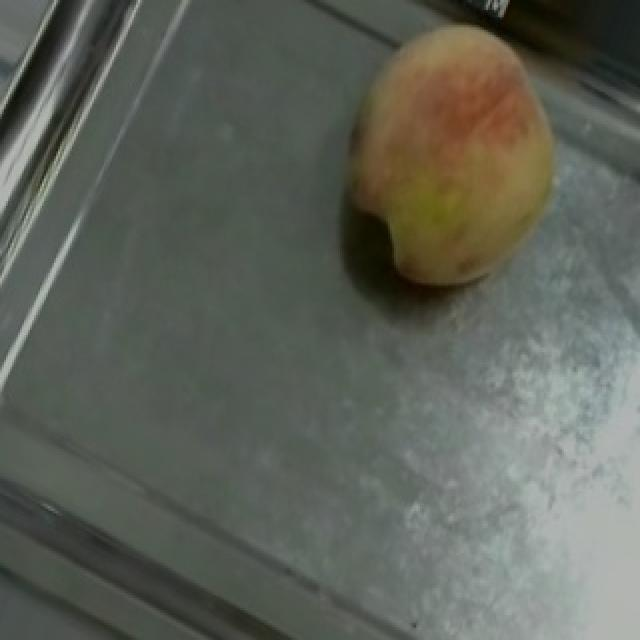Fruit: (296, 0, 606, 325)
